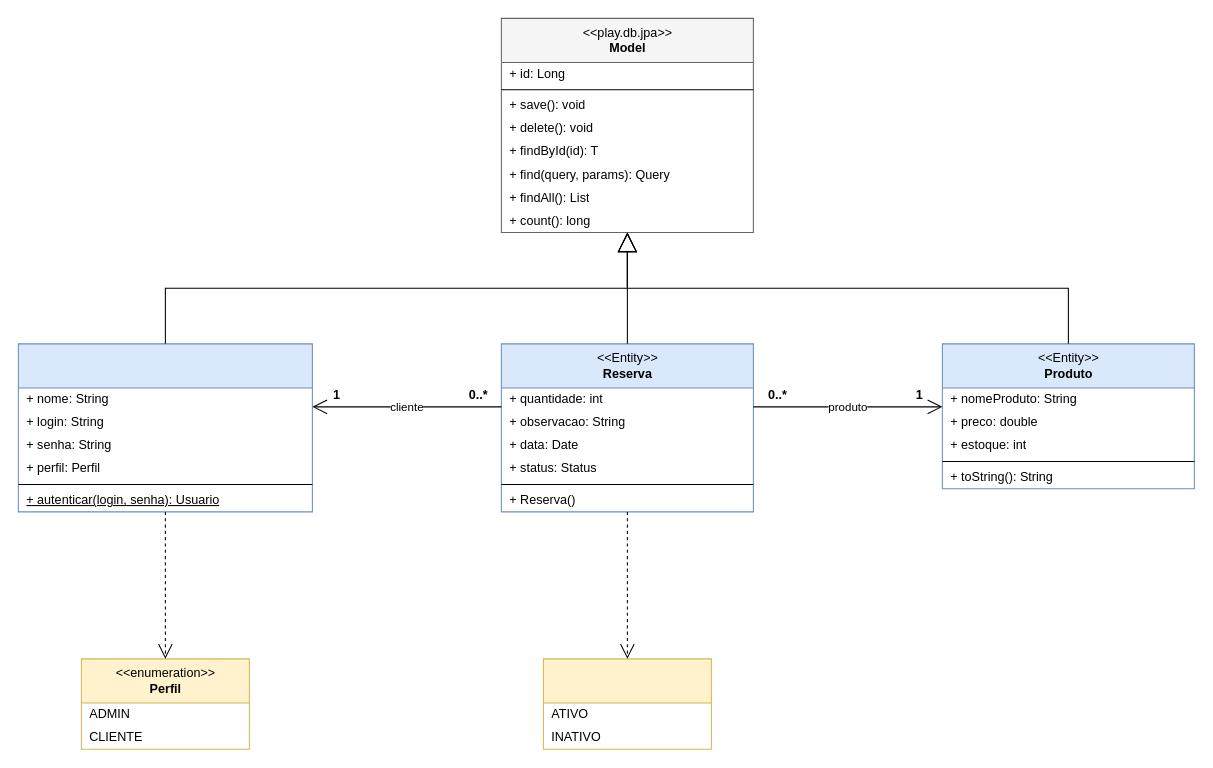
The diagram is 1213 pixels wide and 768 high, and some of its shapes have lost their labels. The box of each missing label's shape, as (x1, y1, x2, y2) in pixels:
<<Entity>> Usuario: (17, 343, 312, 512)
<<enumeration>> Status: (542, 658, 711, 749)
